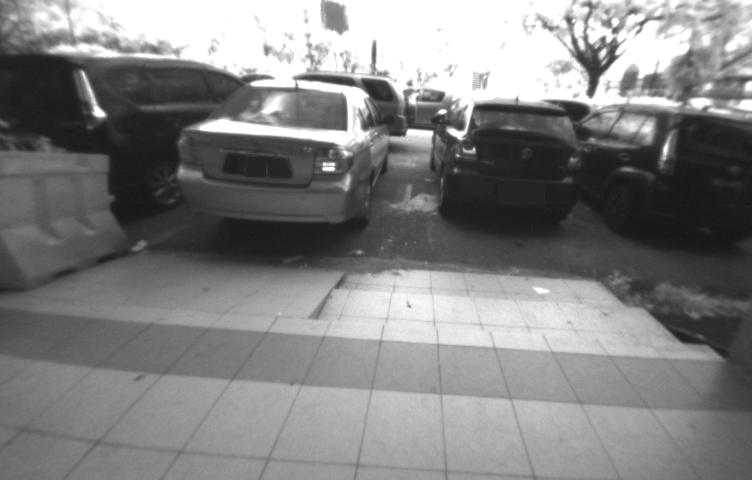down_steps: (312, 266, 725, 367)
mixed_gradient: (278, 254, 372, 328)
